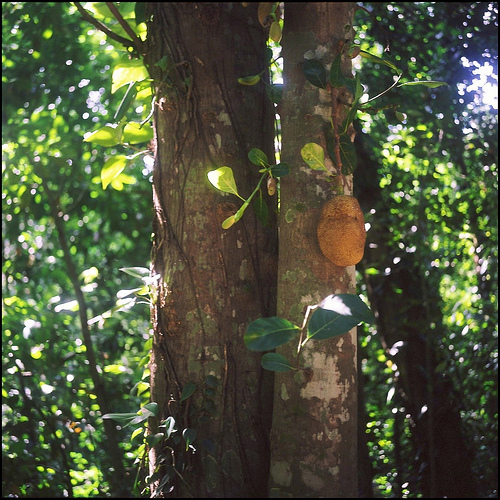jackfruit: (317, 188, 366, 266)
